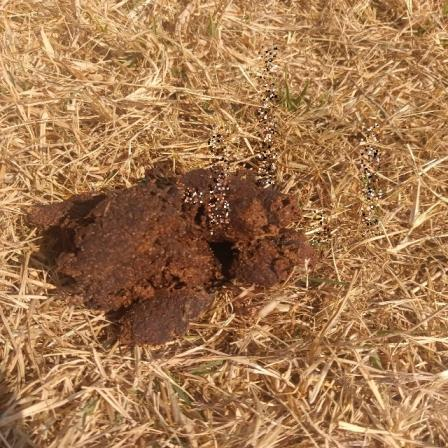dog-poop: (28, 163, 319, 338)
